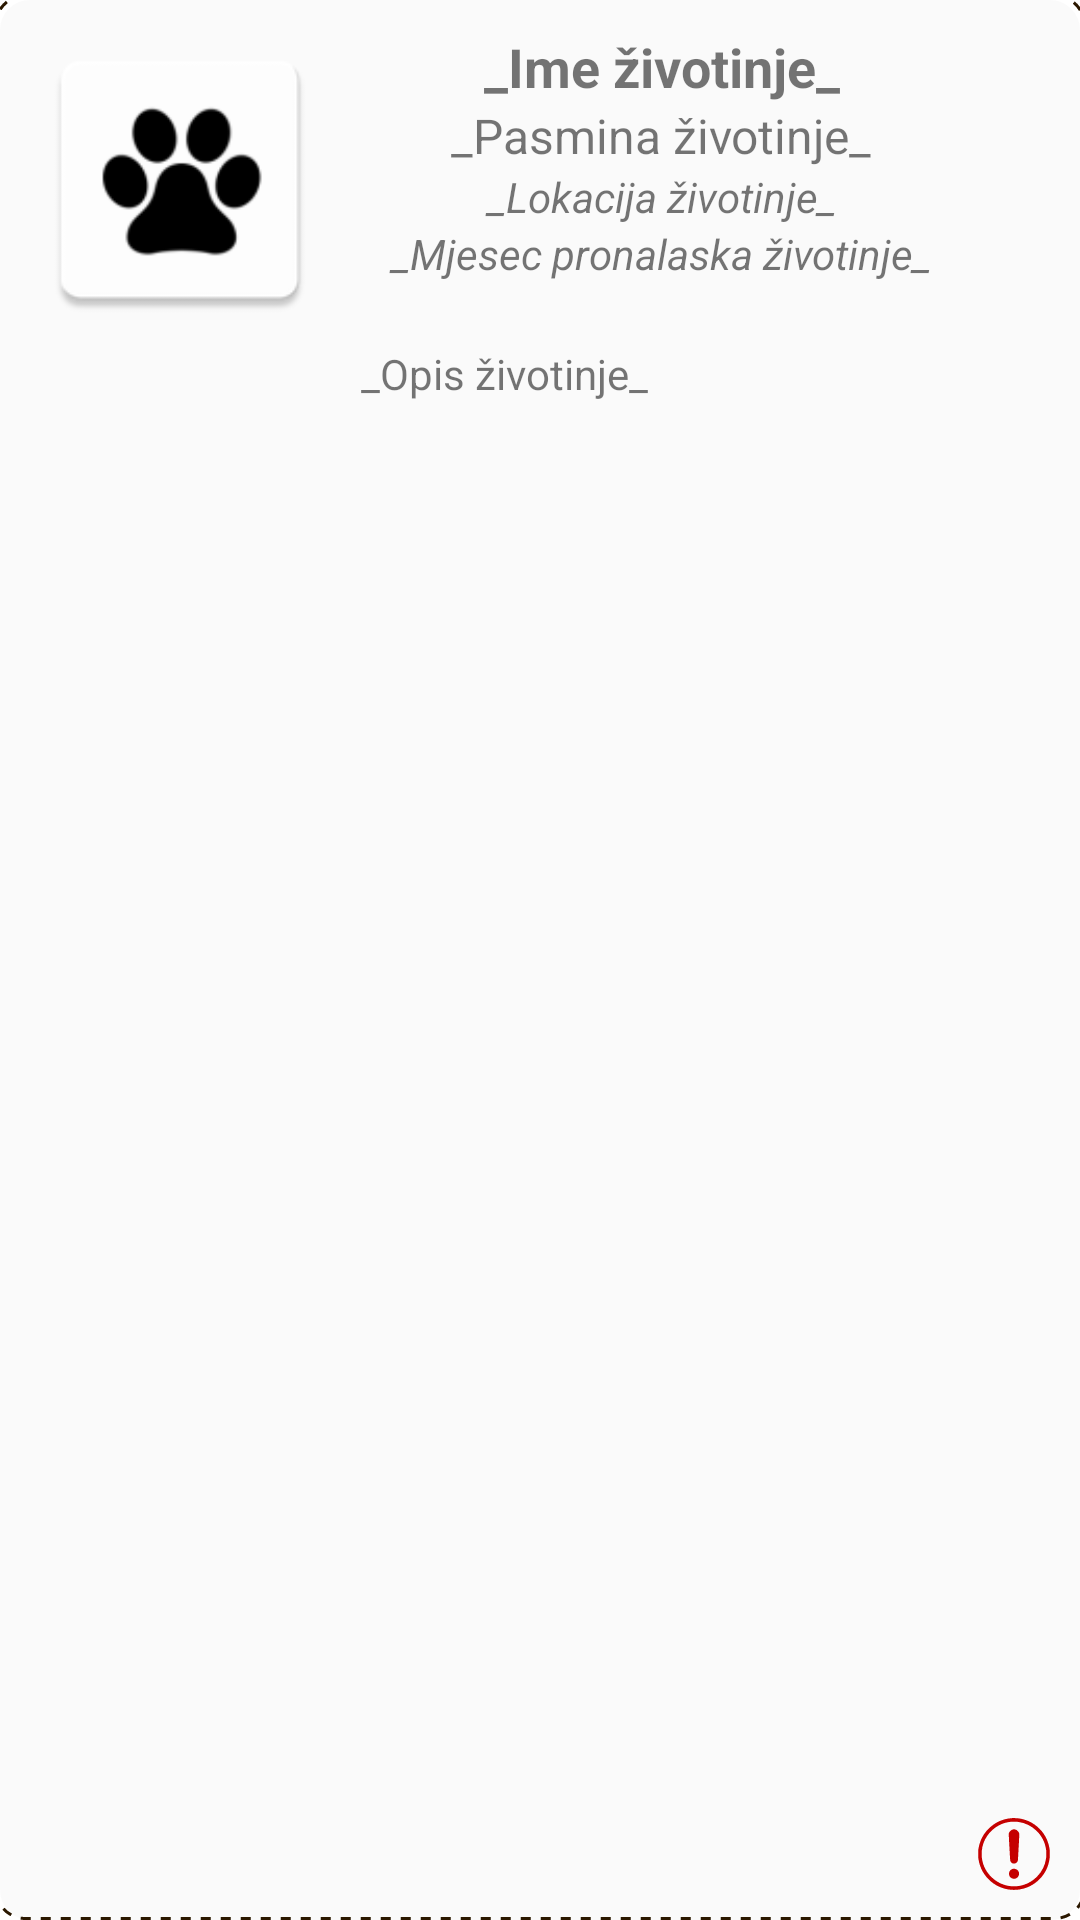

Icon click points for this 1080x1920 phone screenshot, format (x,y):
paw: (180,190)
warning: (1014,1854)
